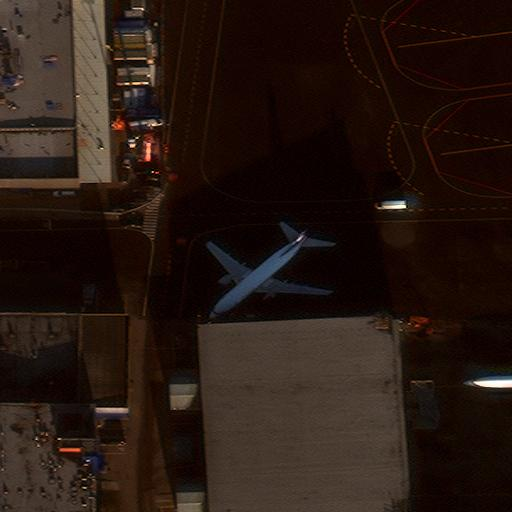Medium Civil Transport: (206, 227, 327, 320)
